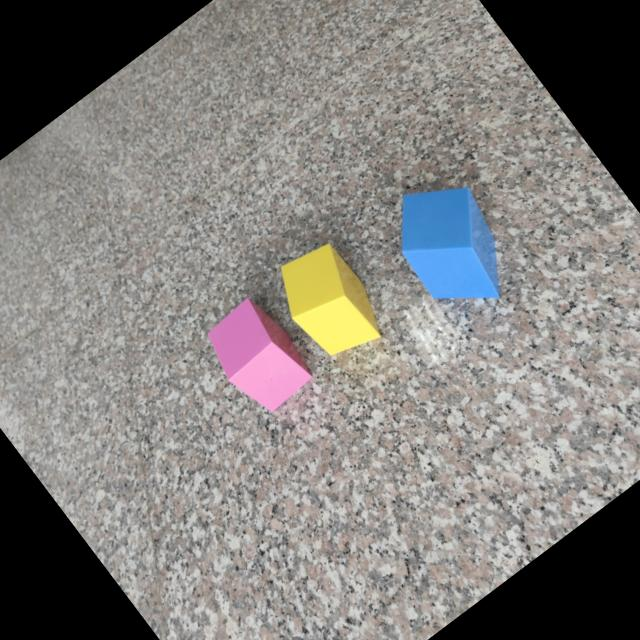blue: (402, 189, 502, 302)
pink: (210, 298, 312, 413)
yellow: (282, 244, 382, 357)
